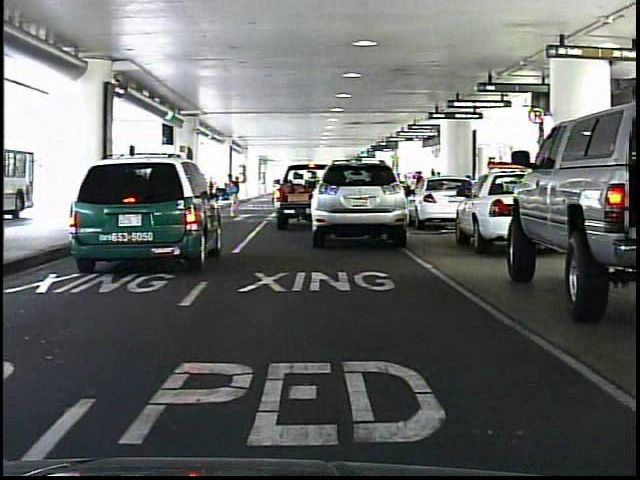person: (219, 168, 242, 221)
